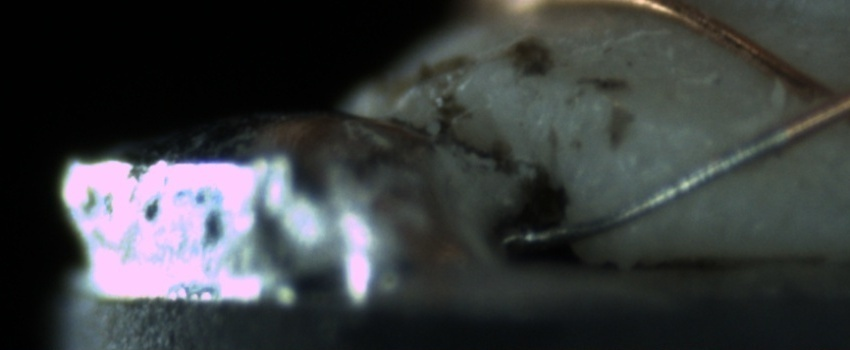CL: (772, 56, 849, 140)
TS: (520, 116, 781, 249)
TTCW: (512, 92, 821, 254)
